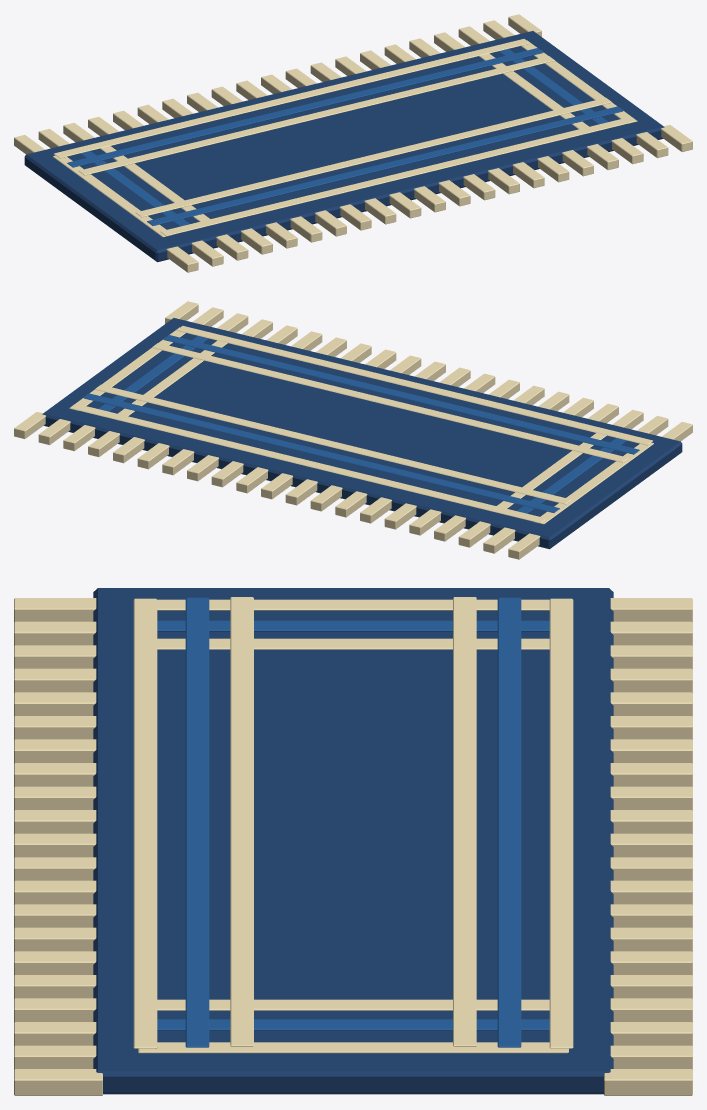
The model's file is hearth_rug.glb.
3 views of the same model, one above another, from view 1: azimuth 30°, elevation 25°; view 2: azimuth 150°, elevation 25°; view 3: azimuth 270°, elevation 25° (orthographic). The views are drawn at different scales.
Parts seen in each view (by area): view 1: hearth_rug__body__navy, hearth_rug__body__linen, hearth_rug__body__azure; view 2: hearth_rug__body__navy, hearth_rug__body__linen, hearth_rug__body__azure; view 3: hearth_rug__body__navy, hearth_rug__body__linen, hearth_rug__body__azure.
Boxes of the visible parts, <box> form: hearth_rug__body__navy: <box>24,31,664,262</box>; hearth_rug__body__linen: <box>14,14,692,272</box>; hearth_rug__body__azure: <box>67,48,622,226</box>; hearth_rug__body__navy: <box>42,318,682,549</box>; hearth_rug__body__linen: <box>14,301,692,559</box>; hearth_rug__body__azure: <box>84,335,639,513</box>; hearth_rug__body__navy: <box>93,588,613,1094</box>; hearth_rug__body__linen: <box>14,597,692,1095</box>; hearth_rug__body__azure: <box>157,597,549,1047</box>.
Bounding box in the file's own units: 1.57 × 0.0476 × 0.914.
